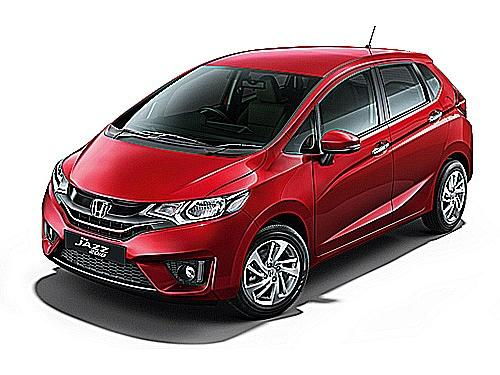Car hood: (61, 121, 272, 204)
Fender - -F-L-: (239, 130, 317, 276)
Fender - -R-L-: (431, 69, 476, 177)
Front bumper: (41, 180, 260, 304)
Headlight - -L-: (139, 191, 252, 228)
Headlight - -R-: (52, 155, 72, 200)
Passenger-s door - -F-L-: (305, 37, 401, 273)
Passenger-s door - -R-L-: (364, 37, 456, 240)
Side bumper - -L-: (308, 188, 438, 280)
Side mirror - -L-: (311, 129, 362, 167)
